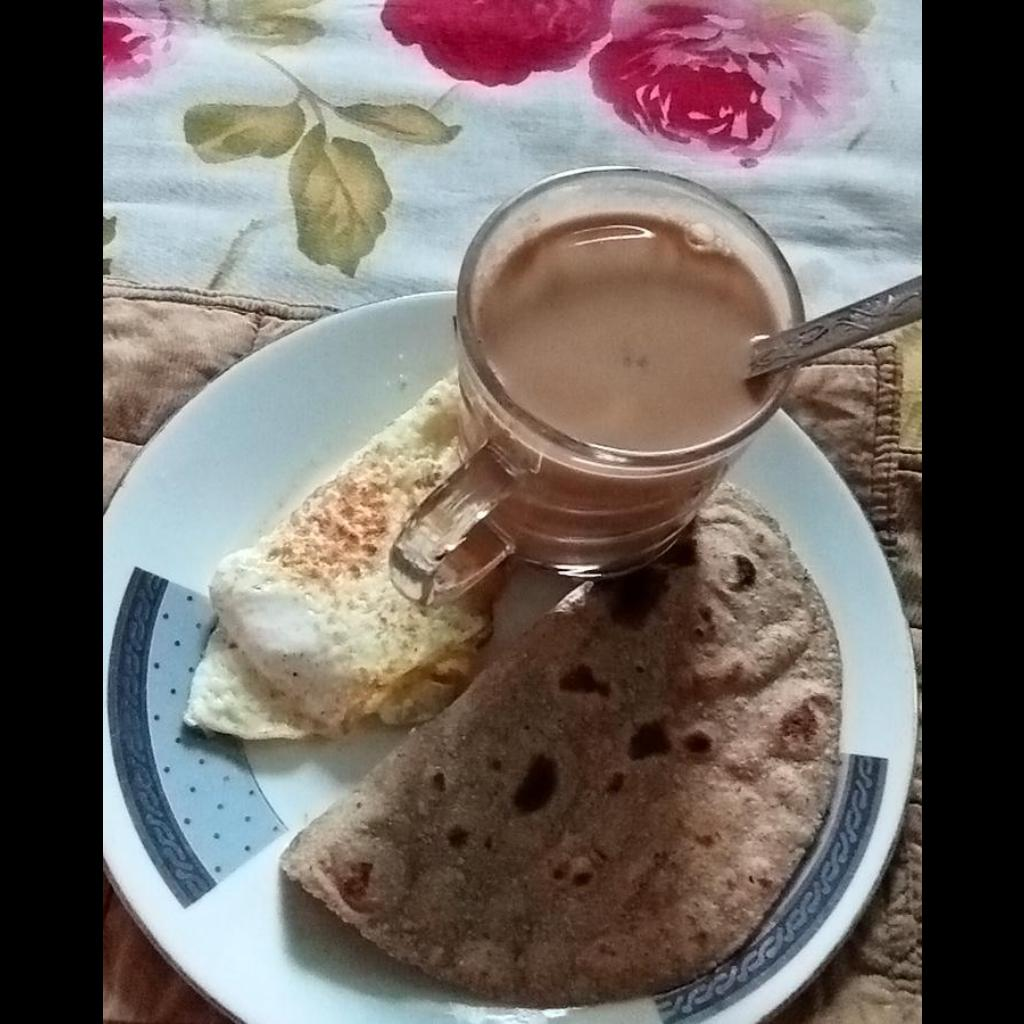cha: (477, 215, 779, 453)
egg-poached: (182, 365, 511, 738)
ruti: (272, 480, 849, 1003)
